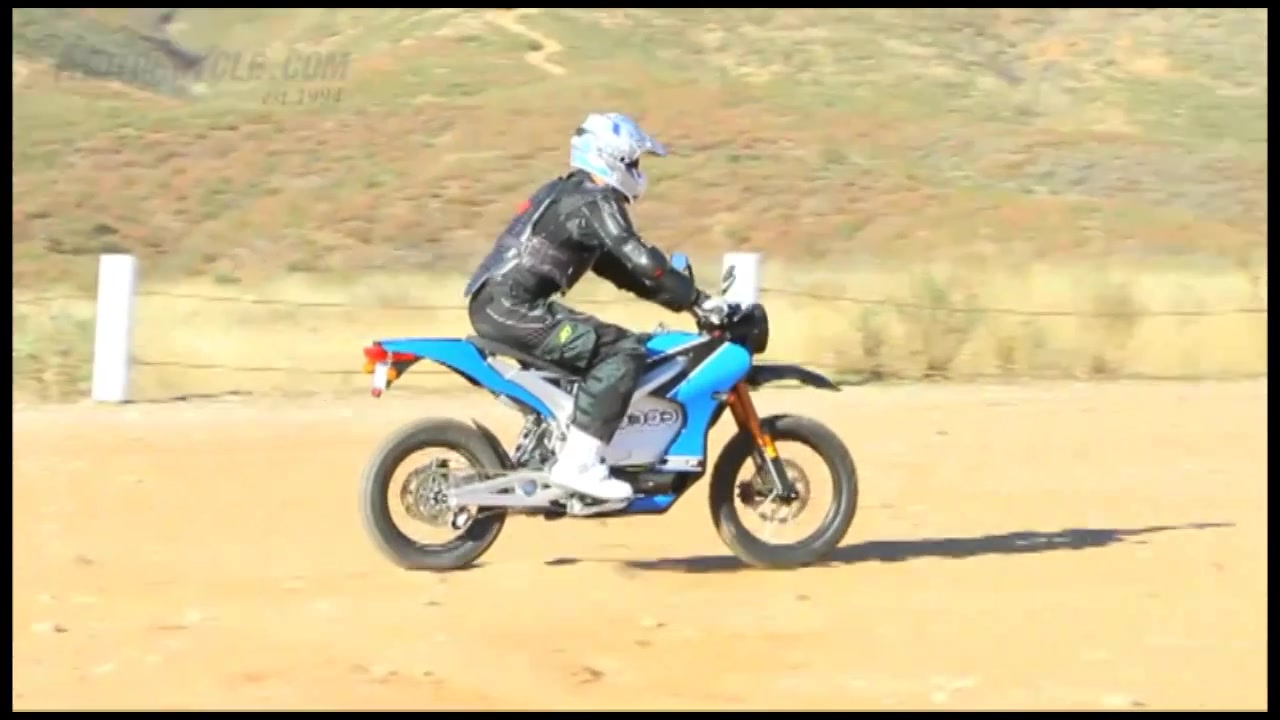motorbike: (364, 246, 859, 572)
